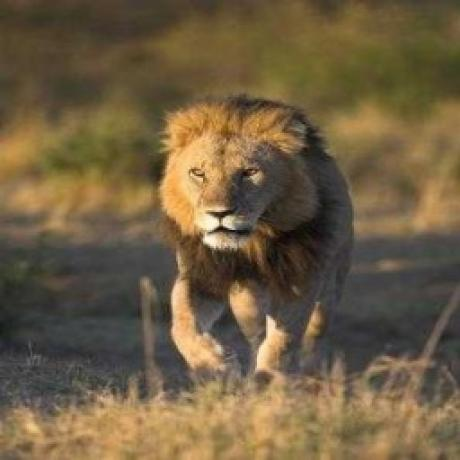Lion: (153, 94, 360, 384)
